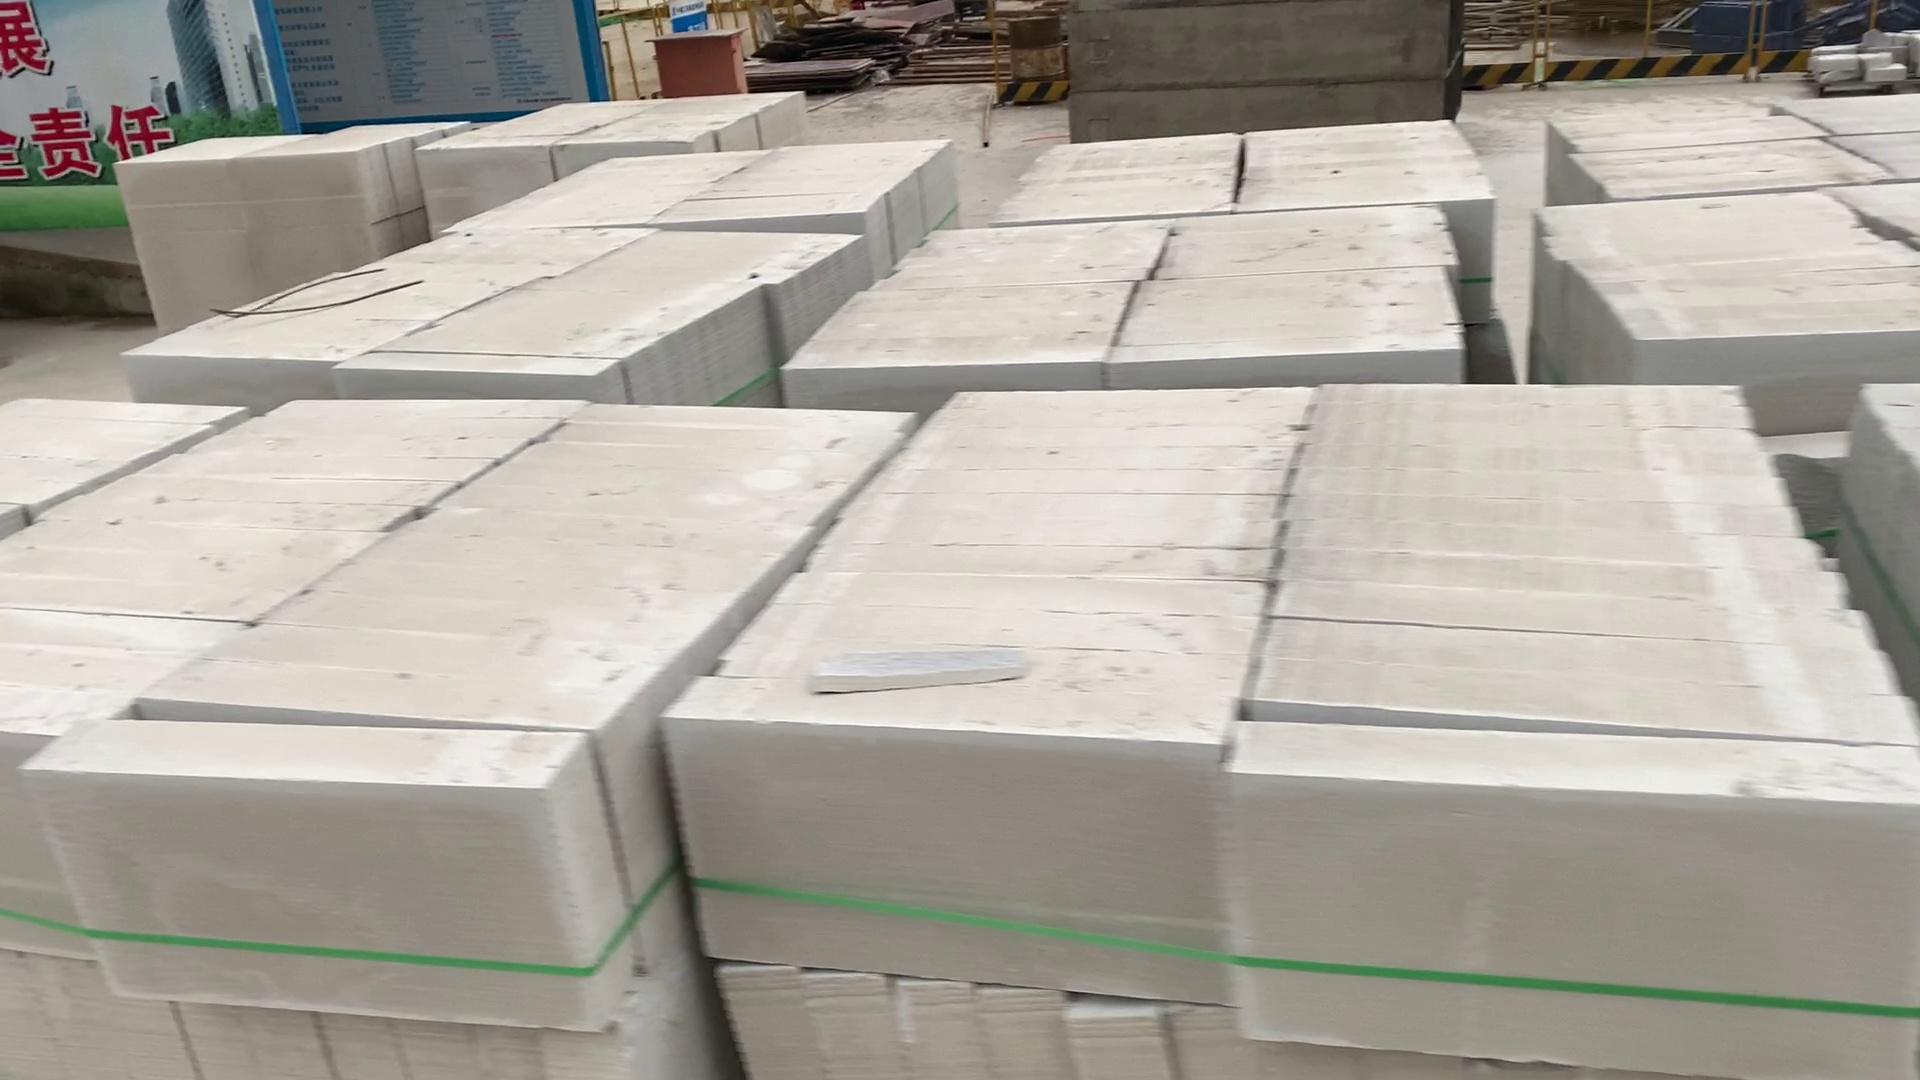brickwork: (688, 384, 1920, 1079), (16, 392, 927, 1080), (119, 231, 833, 386), (793, 223, 1464, 372), (1530, 191, 1920, 372), (1002, 129, 1505, 218), (1539, 87, 1920, 199), (458, 150, 967, 227), (123, 127, 423, 237), (3, 388, 243, 526), (434, 92, 793, 157)
